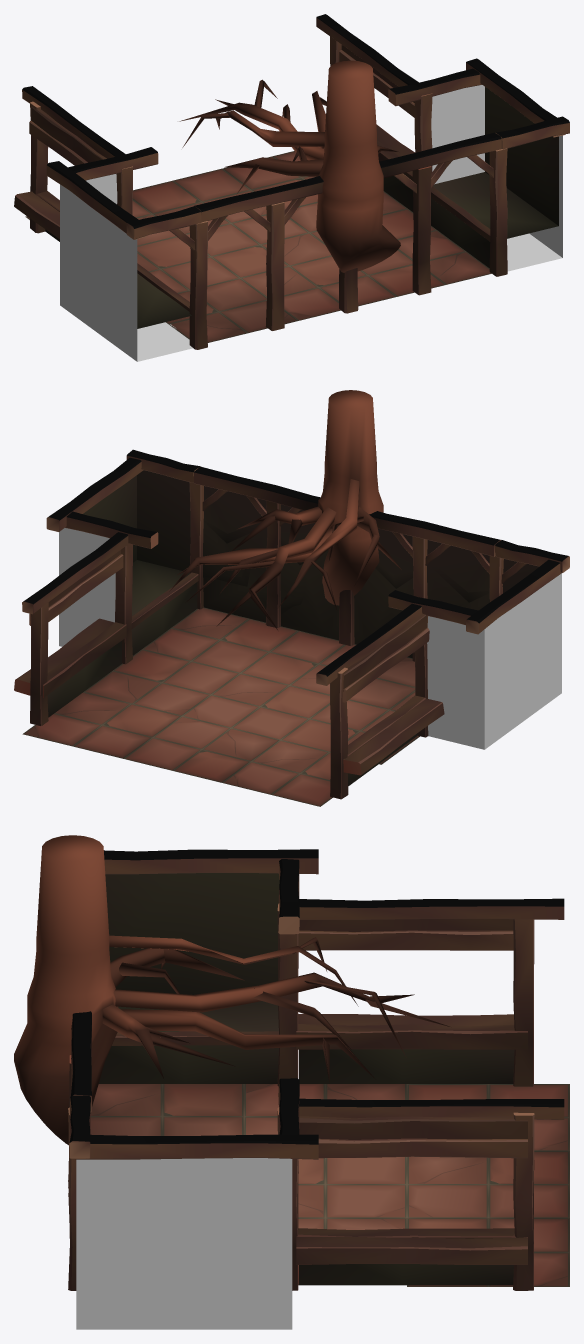
The picture shows the model from 3 angles, top to bottom: view 1: azimuth 30°, elevation 25°; view 2: azimuth 150°, elevation 25°; view 3: azimuth 270°, elevation 25°; orthographic projection. The views are drawn at different scales.
Parts seen in each view (by area): view 1: MESH_WoodFrame, MESH_Floor, MESH_OutterWalls, MESH_Root, MESH_Walls; view 2: MESH_WoodFrame, MESH_Floor, MESH_Walls, MESH_OutterWalls, MESH_Root; view 3: MESH_WoodFrame, MESH_OutterWalls, MESH_Walls, MESH_Floor, MESH_Root.
Part boxes in pixels (x1,y1,x2,y2): MESH_WoodFrame: (14, 14, 569, 349); MESH_Floor: (25, 148, 491, 342); MESH_OutterWalls: (60, 85, 562, 361); MESH_Root: (179, 60, 400, 272); MESH_Walls: (45, 87, 558, 328); MESH_WoodFrame: (14, 449, 569, 799); MESH_Floor: (22, 607, 419, 806); MESH_Walls: (47, 470, 538, 786); MESH_OutterWalls: (59, 528, 561, 749); MESH_Root: (169, 390, 401, 629); MESH_WoodFrame: (68, 849, 564, 1290); MESH_OutterWalls: (76, 1158, 292, 1329); MESH_Walls: (98, 873, 514, 1285); MESH_Floor: (90, 1084, 569, 1286); MESH_Root: (14, 835, 449, 1144).
Size of the model in its own units: 2211 by 1168 by 1751.
